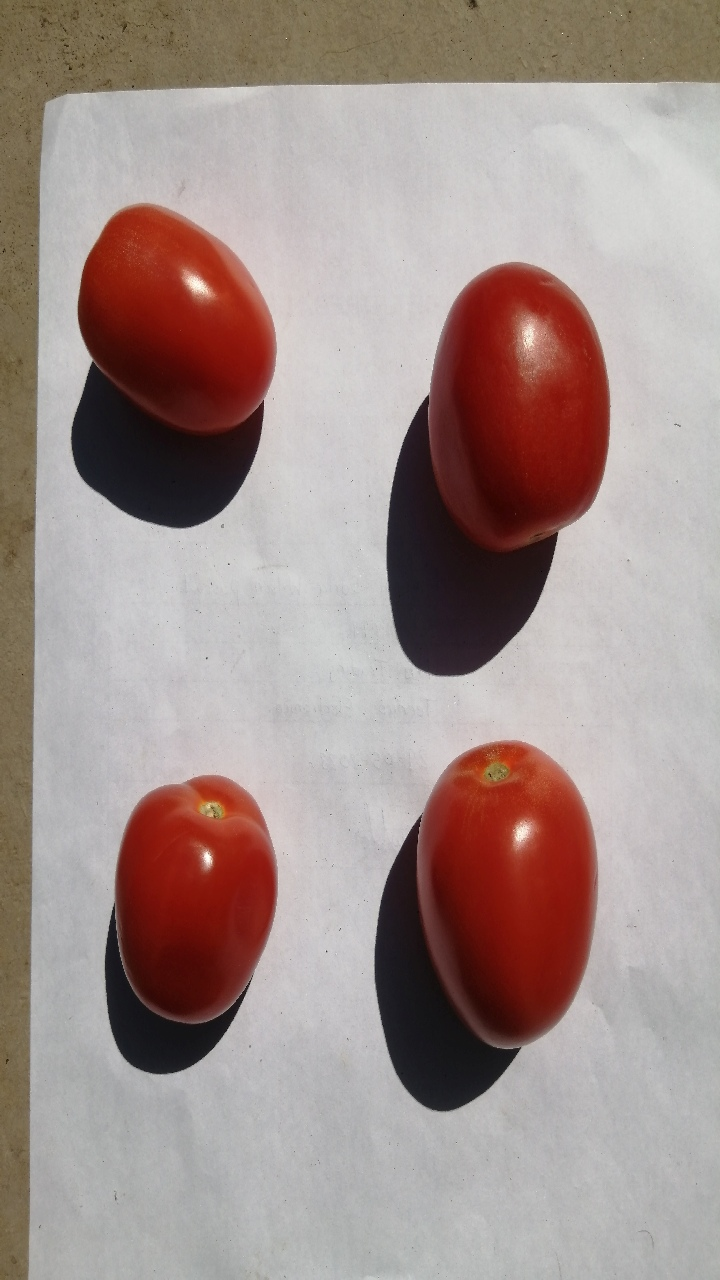tomateRojo: (401, 717, 615, 1075), (404, 239, 629, 575), (55, 171, 288, 448), (95, 749, 291, 1062)
